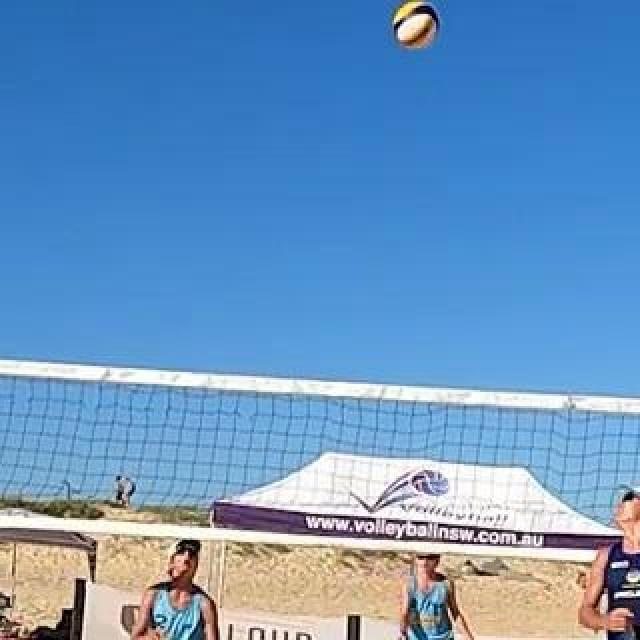volleyball: (392, 1, 436, 49)
